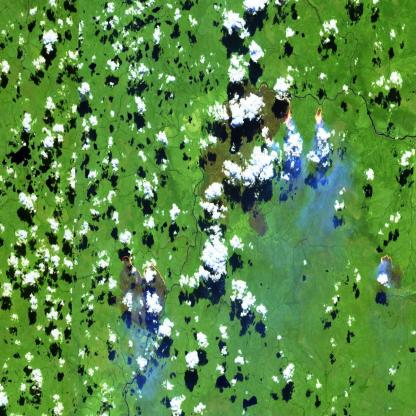fire: (259, 79, 329, 152), (104, 254, 168, 308), (371, 247, 397, 280)
